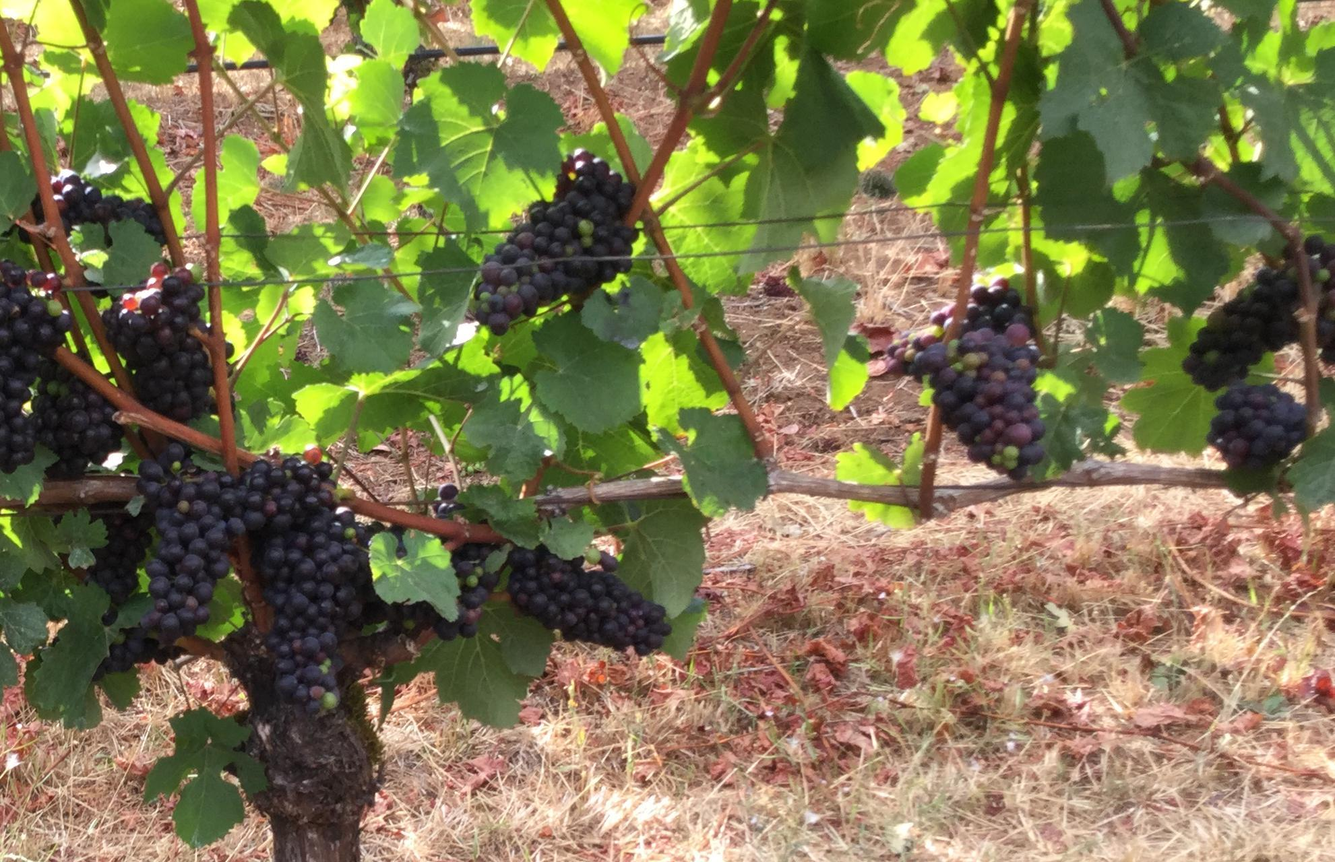Grape Ripe: (451, 155, 652, 365), (1133, 211, 1335, 407), (868, 287, 1053, 490), (137, 455, 305, 637), (0, 152, 194, 304), (251, 450, 368, 696), (108, 273, 268, 419), (492, 539, 657, 678), (0, 293, 73, 465), (1205, 384, 1295, 484), (52, 388, 128, 480)
